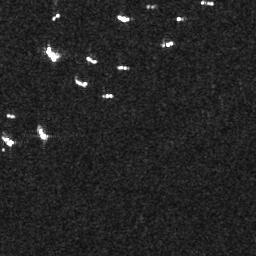ship: (45, 44, 60, 62), (38, 125, 48, 141), (84, 55, 99, 65), (3, 136, 15, 147), (75, 78, 87, 88), (117, 63, 130, 72), (117, 14, 130, 23), (161, 39, 173, 48), (51, 12, 61, 22), (100, 92, 115, 98), (6, 112, 17, 119), (198, 1, 215, 4)
